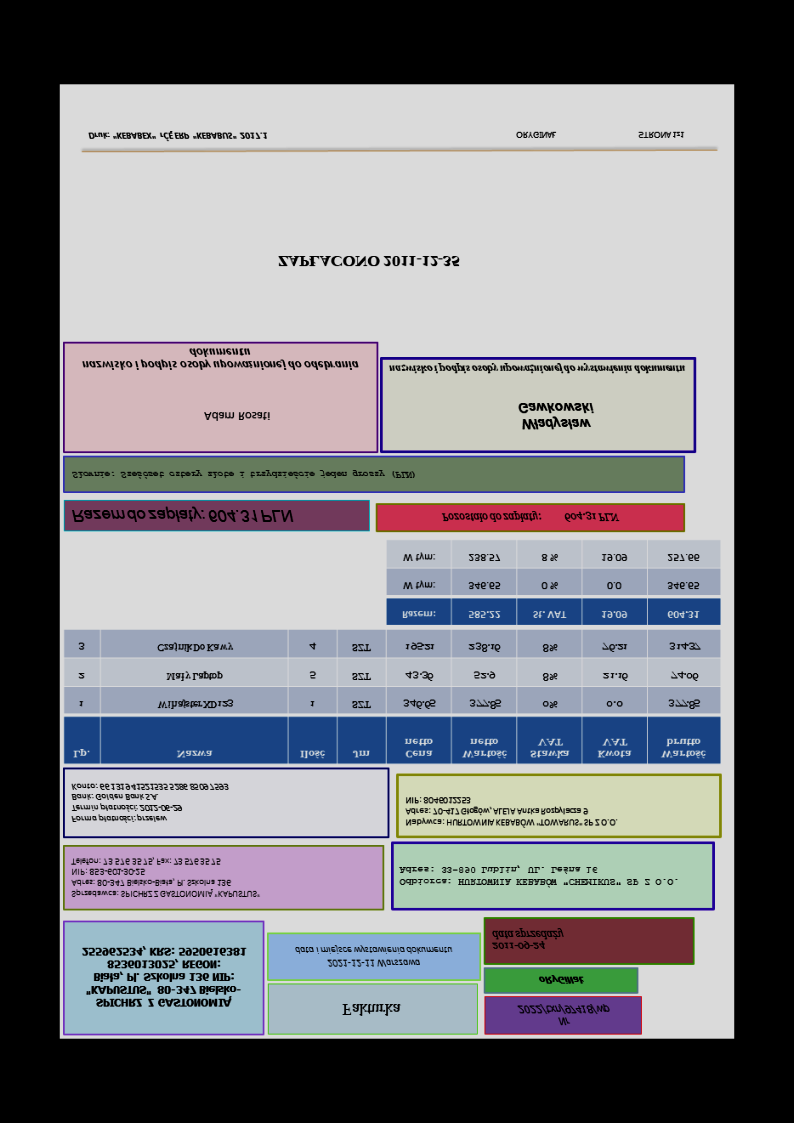Table: (63, 628, 721, 764), (386, 539, 721, 626)
TextBox: (79, 945, 248, 1009), (70, 856, 262, 899), (403, 795, 620, 828), (398, 864, 680, 889), (70, 781, 230, 825), (79, 347, 360, 372), (387, 360, 687, 376), (68, 505, 298, 525), (70, 468, 418, 481), (291, 944, 454, 969), (275, 253, 463, 270), (439, 509, 621, 525), (513, 1001, 611, 1029), (517, 400, 595, 434), (86, 129, 270, 142), (490, 926, 565, 950), (340, 1001, 402, 1018), (201, 410, 271, 423), (536, 972, 586, 987), (636, 128, 685, 139), (513, 129, 557, 140)
